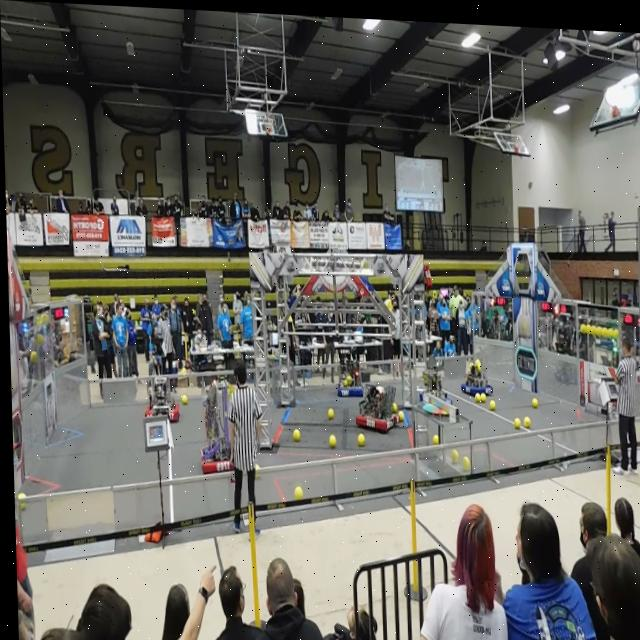robot: (195, 375, 239, 478), (351, 379, 399, 431), (141, 360, 177, 426), (415, 344, 450, 402), (458, 333, 490, 395), (336, 339, 363, 398)
